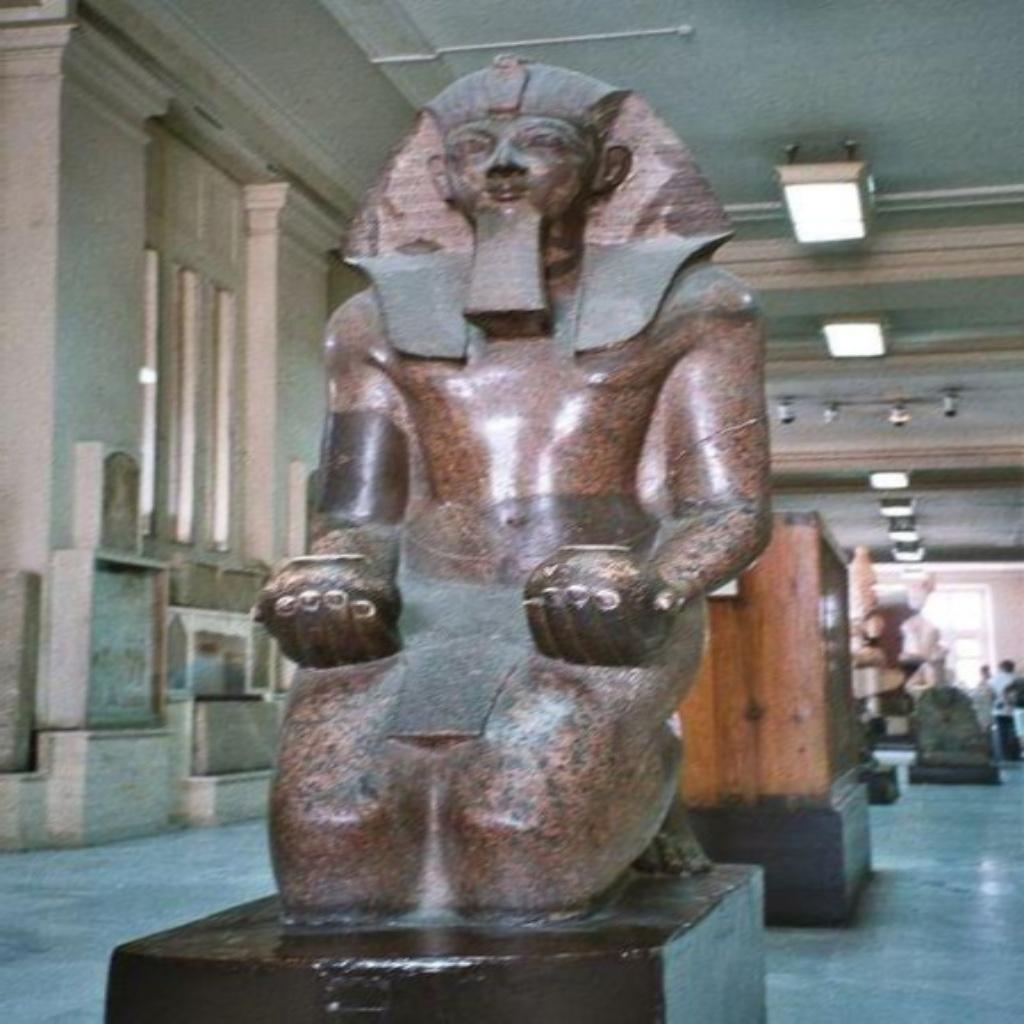King Thutmose III: (246, 53, 776, 932)
